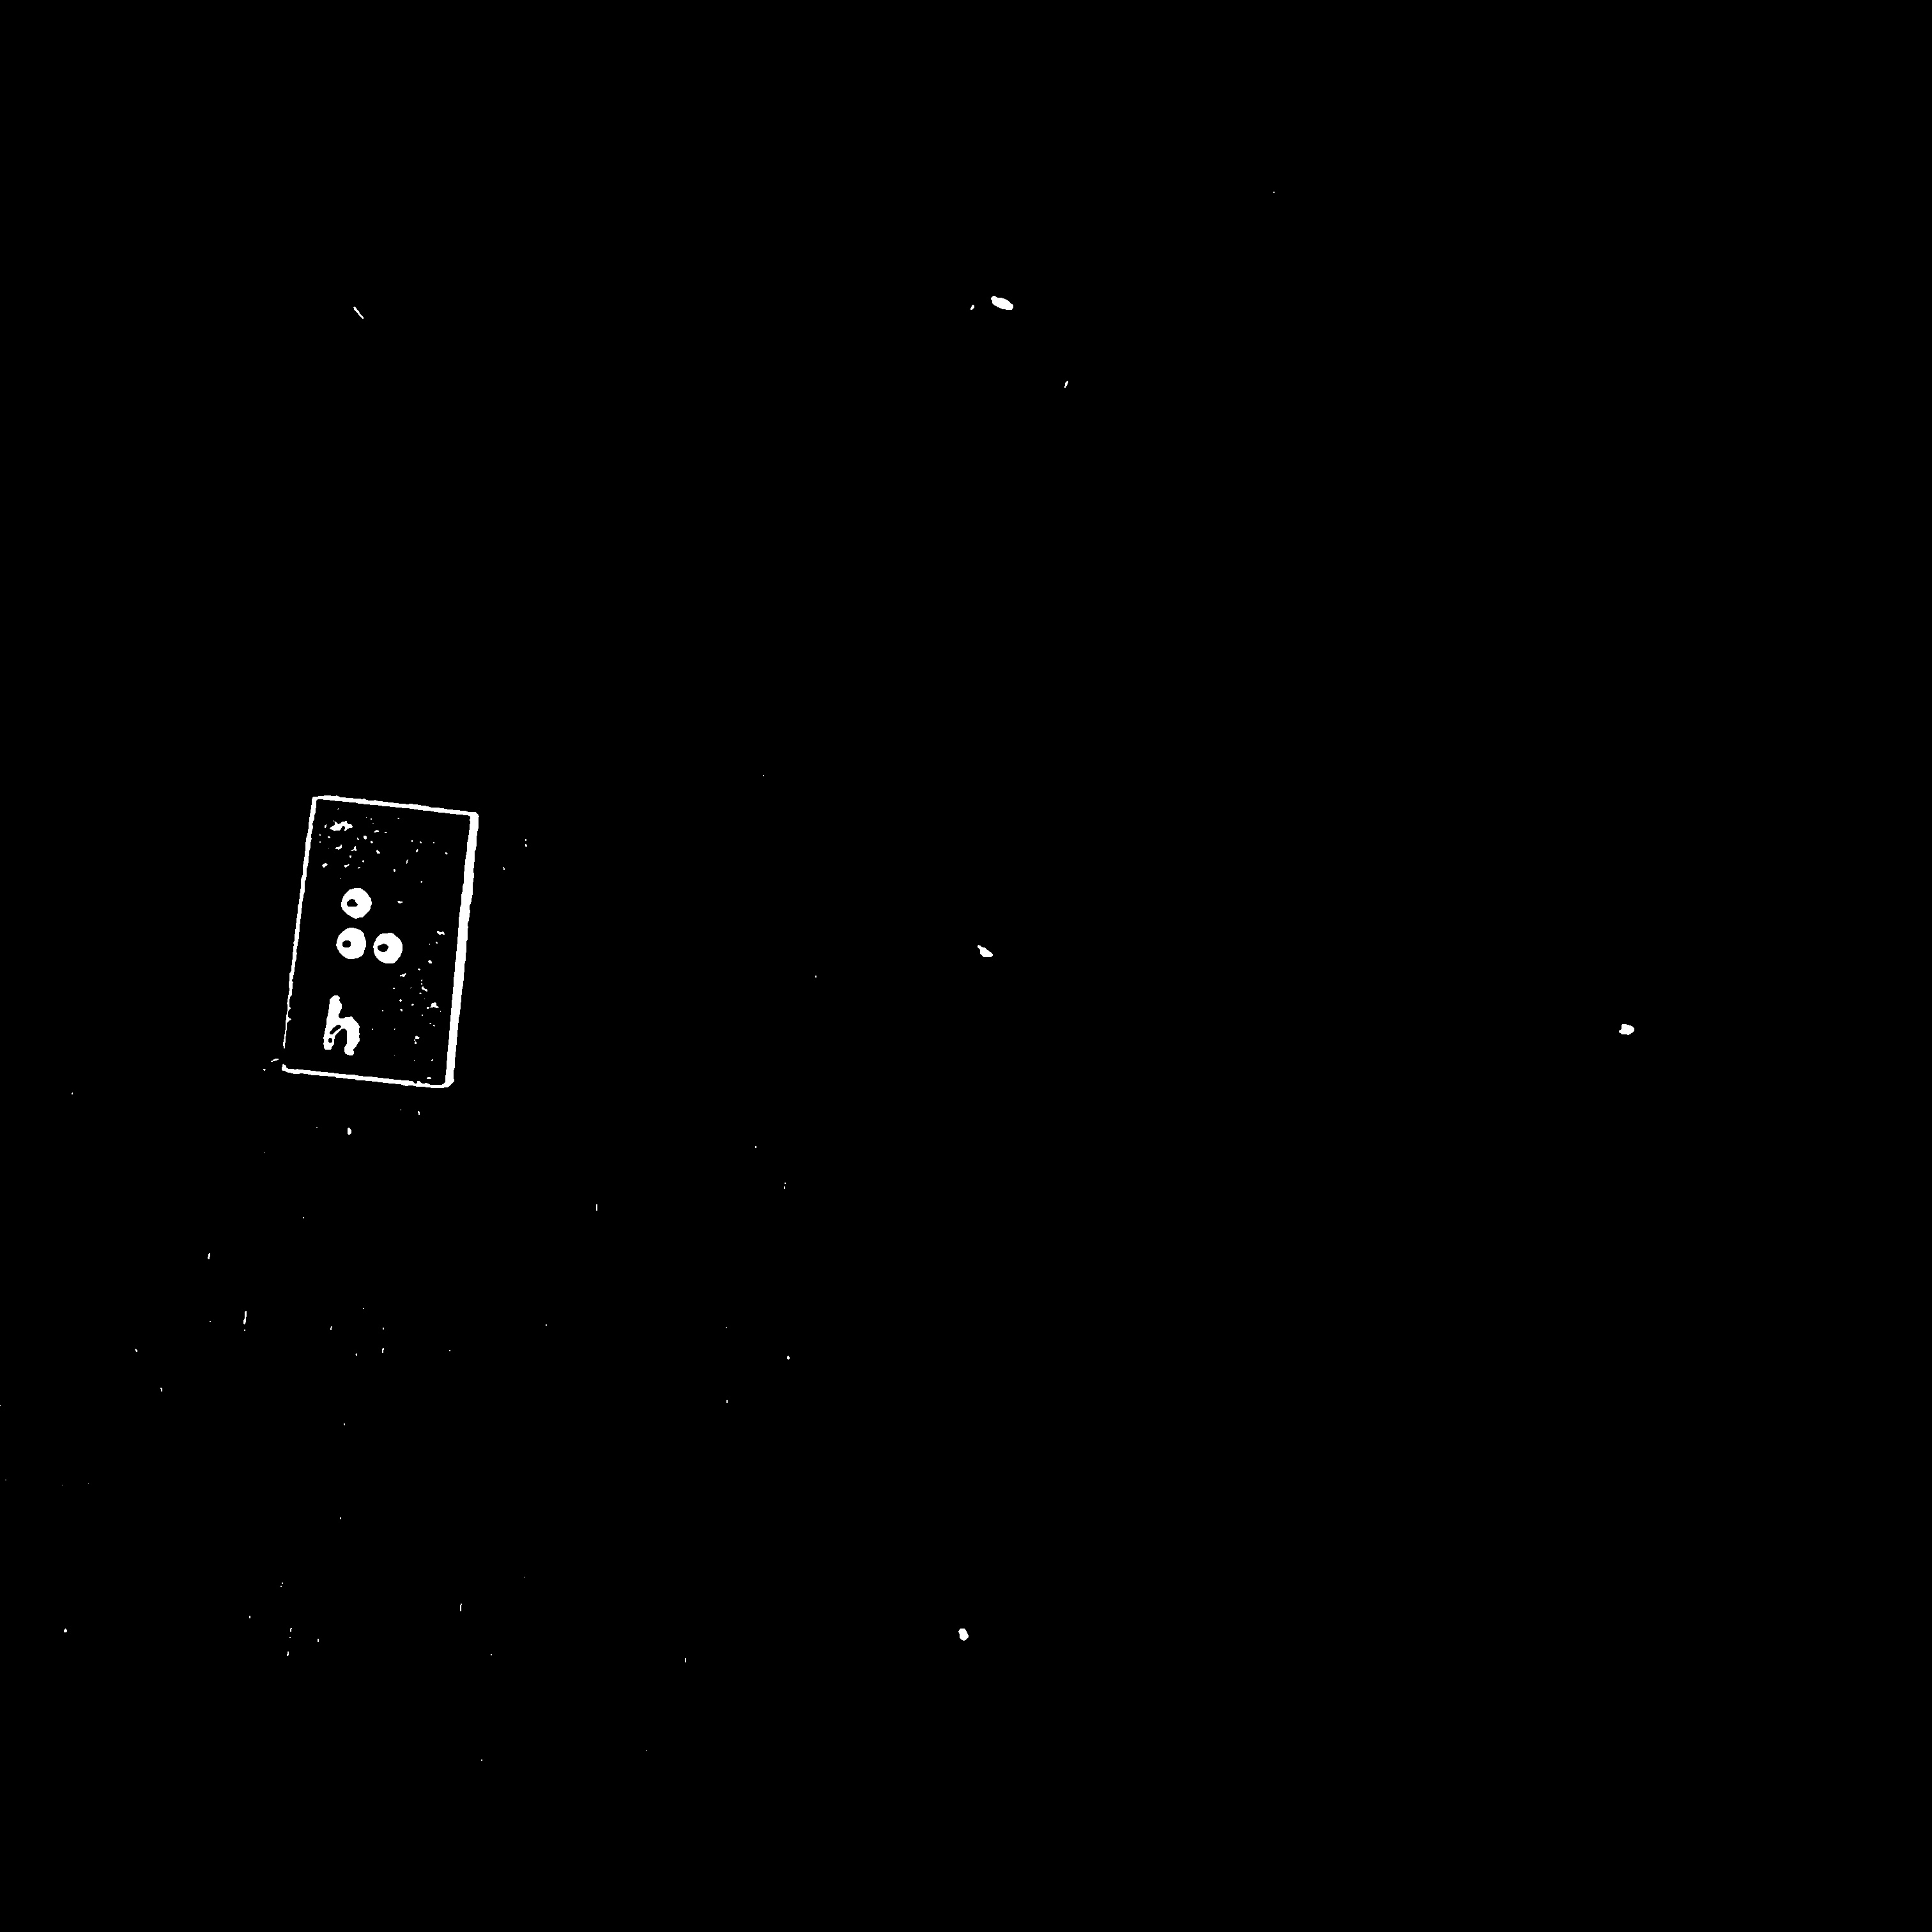h: (325, 869, 426, 1004)
